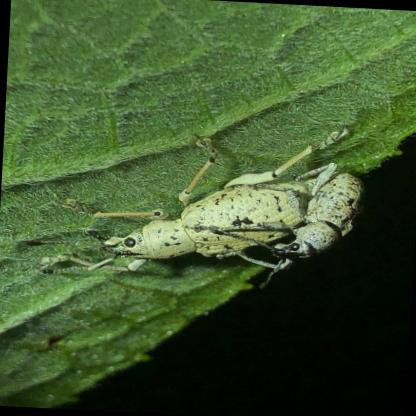ash weevil: (44, 135, 335, 273), (271, 164, 359, 276)
